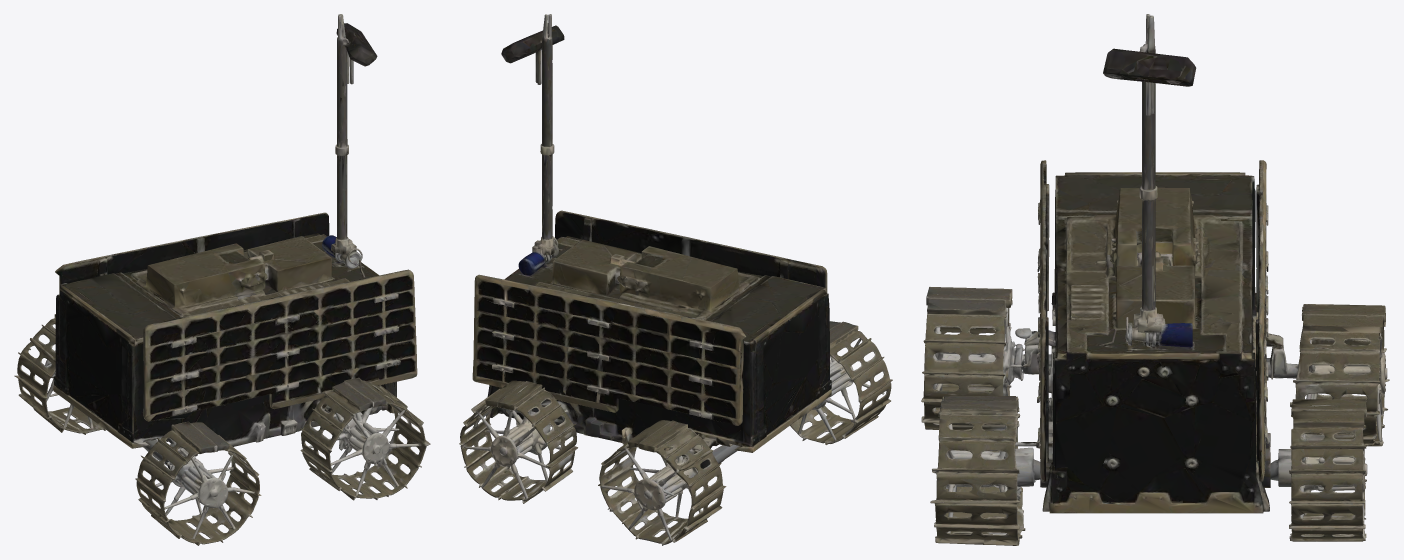
Rendered from magpie.glb.
The picture shows the model from 3 angles, left to right: view 1: azimuth 30°, elevation 25°; view 2: azimuth 150°, elevation 25°; view 3: azimuth 270°, elevation 25°; orthographic projection. The views are drawn at different scales.
Bounding box in the file's own units: 1.42 × 1.9 × 1.48.
Materials: 1 (1 with a texture image).
